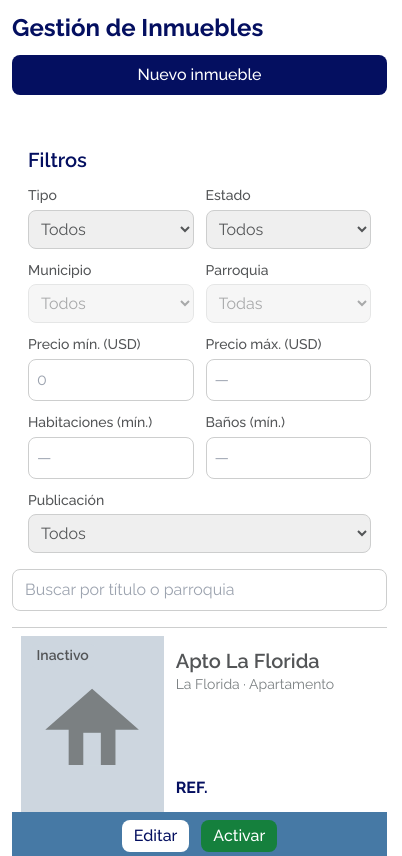
Test: AdminListPage › bloquea activar sin imágenes y muestra el error
Step 1. Click the button "Activar" → (239, 836), box [201, 820, 277, 852]
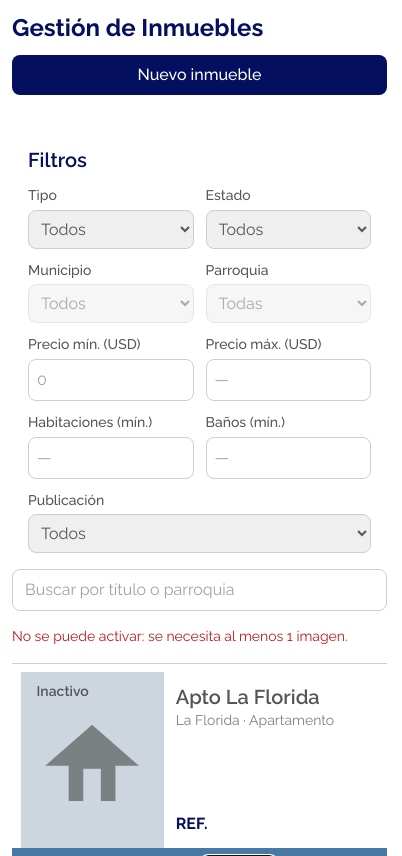
Now the text "No se puede activar: se necesita al menos 1 imagen." is shown, box [12, 627, 387, 647]
